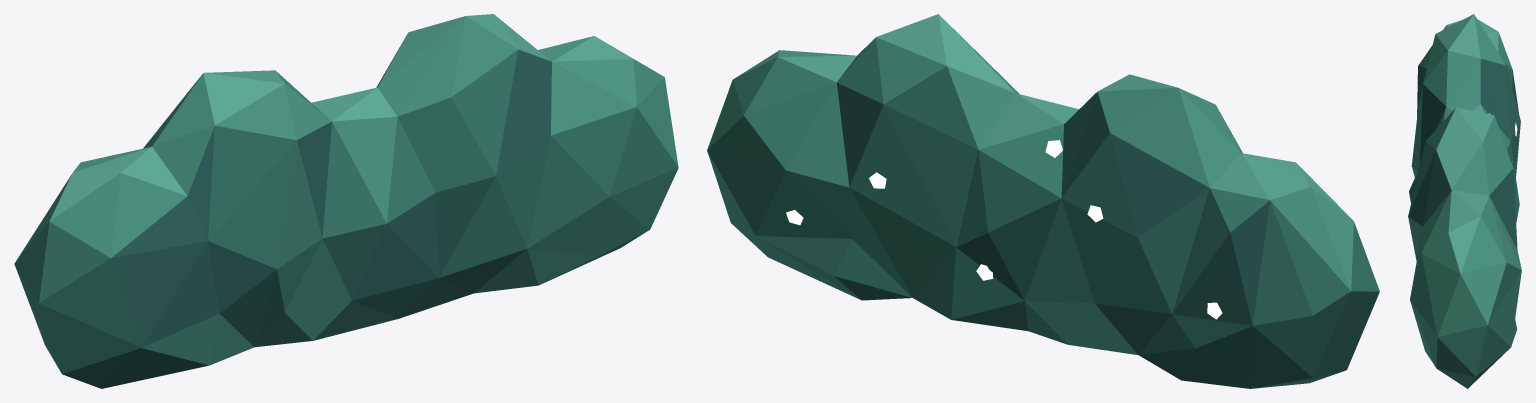
Rendered from thicket.glb.
The picture shows the model from 3 angles, left to right: view 1: azimuth 30°, elevation 25°; view 2: azimuth 150°, elevation 25°; view 3: azimuth 270°, elevation 25°; orthographic projection. The views are drawn at different scales.
Visible parts, largest first — view 1: thicket; view 2: thicket; view 3: thicket.
Boxes of the visible parts, x1=… form: thicket: x1=14, y1=14, x2=678, y2=388; thicket: x1=707, y1=14, x2=1379, y2=388; thicket: x1=1408, y1=14, x2=1521, y2=388.
Bounding box in the file's own units: 8.78 × 3.66 × 1.7.
